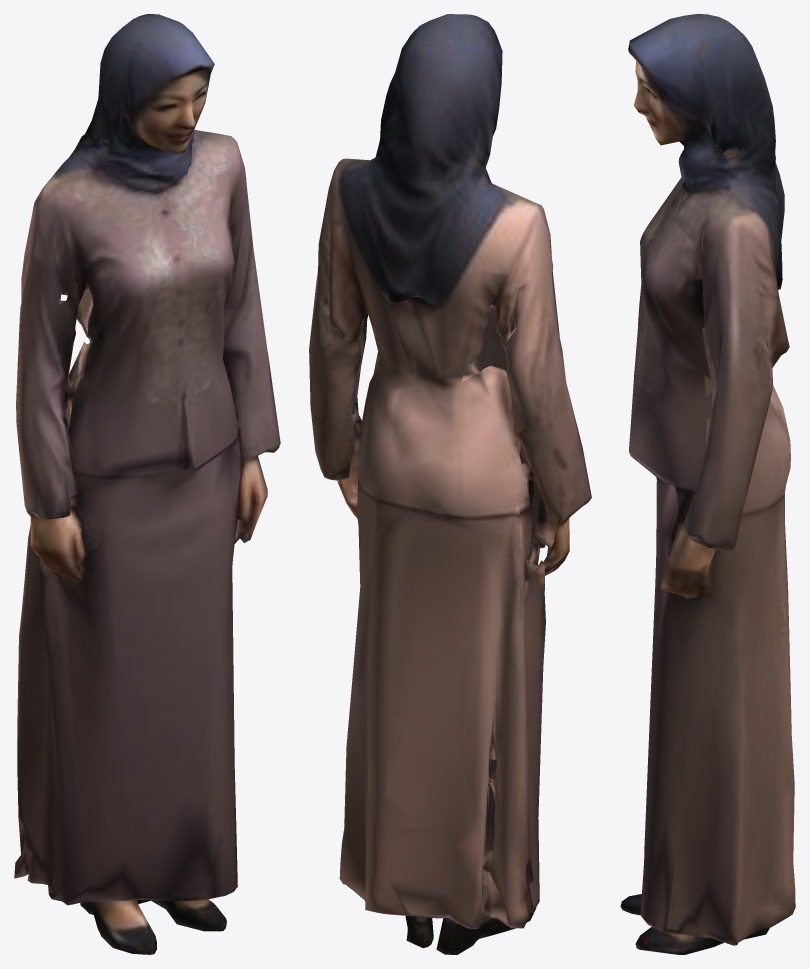
File: c_fem.glb
The picture shows the model from 3 angles, left to right: view 1: azimuth 30°, elevation 25°; view 2: azimuth 150°, elevation 25°; view 3: azimuth 270°, elevation 25°; orthographic projection.
Parts seen in each view (by area): view 1: Object_2; view 2: Object_2; view 3: Object_2.
Part boxes in pixels (box(x1,y1,x2,y2)): Object_2: box(14, 14, 280, 954); Object_2: box(309, 14, 591, 954); Object_2: box(620, 14, 795, 954).
Size of the model in its own units: 0.5947 by 1.99 by 0.3465.
Materials: 1 (1 with a texture image).
